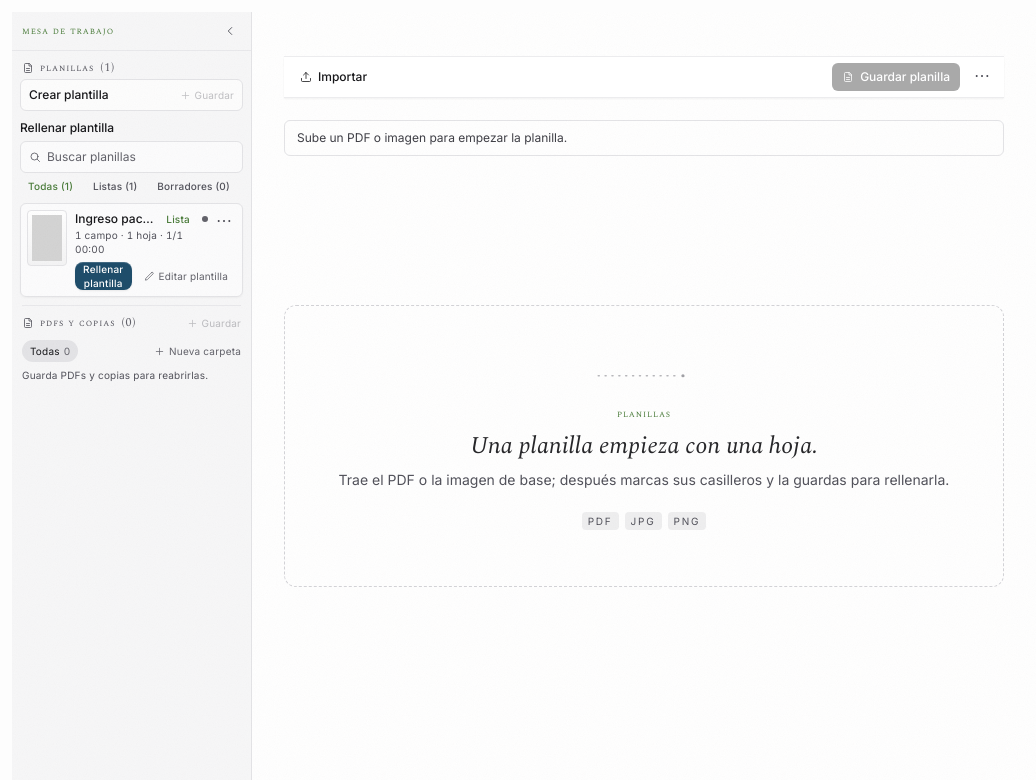
it: <PdfStudioView /> › en Planillas, con el panel plegado, el vacío ofrece reabrir las planillas
Check: the button with aria-label "Rellenar planilla Ingreso paciente" is shown, box [75,262,132,290]
Check: the button "Ver tu planilla guardada" is not shown
Click the button named "Ocultar el panel" at (230, 31), box [219,20,241,42]
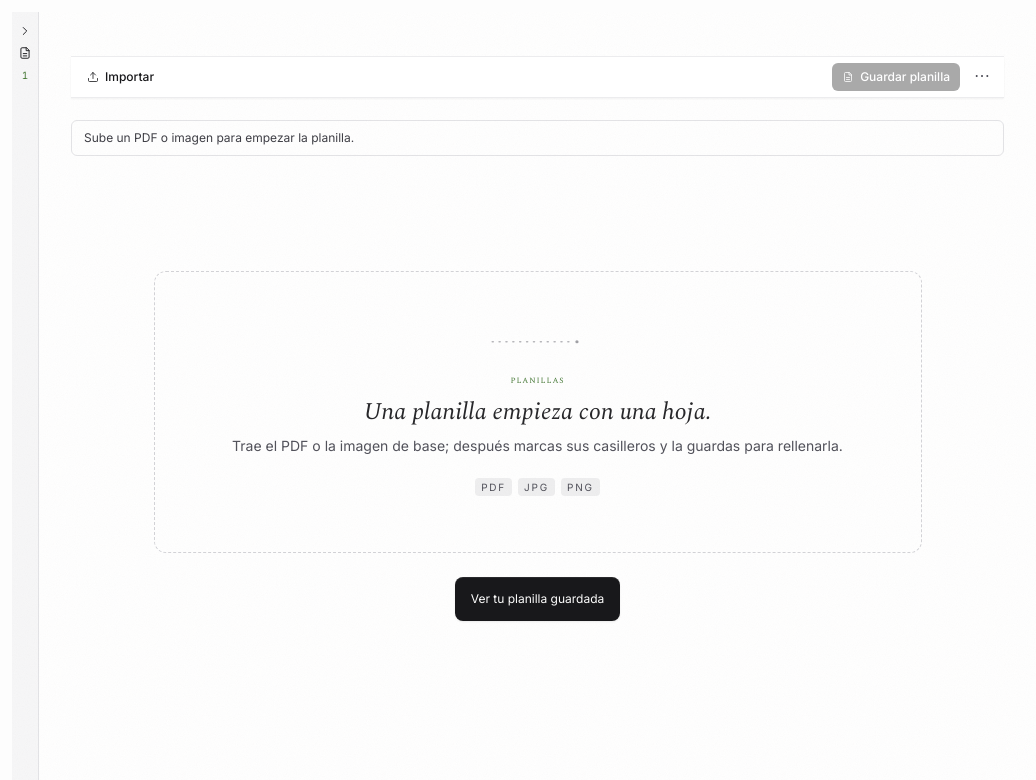
Click the button "Ver tu planilla guardada" at (538, 599), box [455,577,620,621]
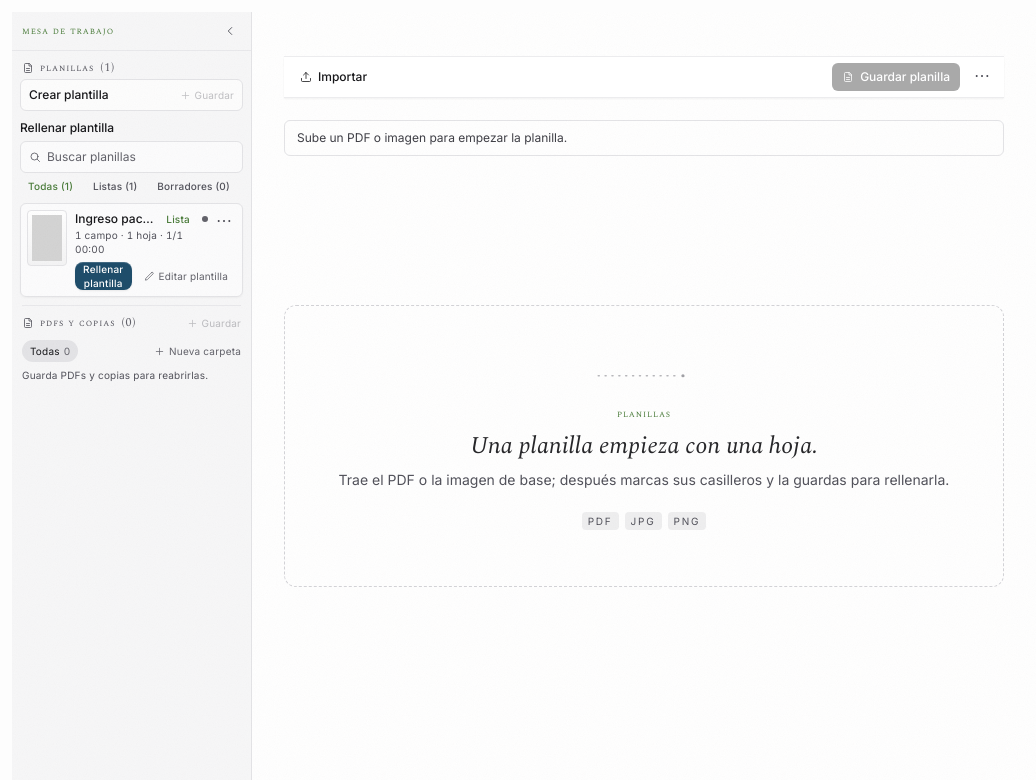
Check: the button with aria-label "Rellenar planilla Ingreso paciente" is shown, box [75,262,132,290]
